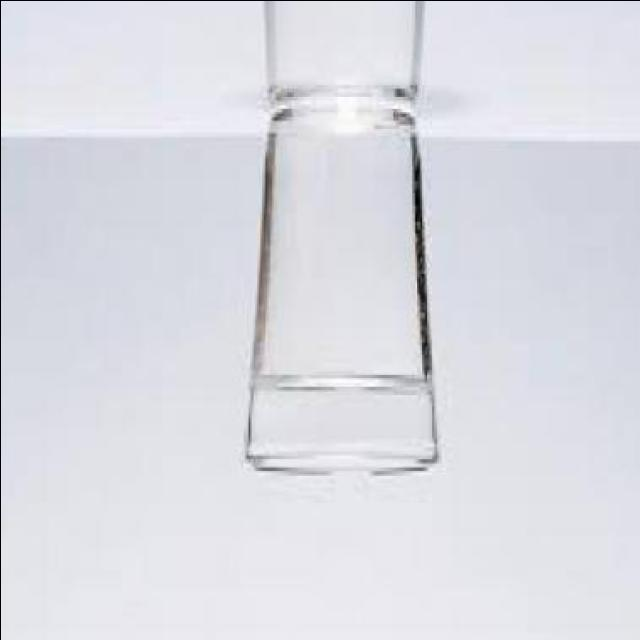kaca: (242, 88, 433, 476)
